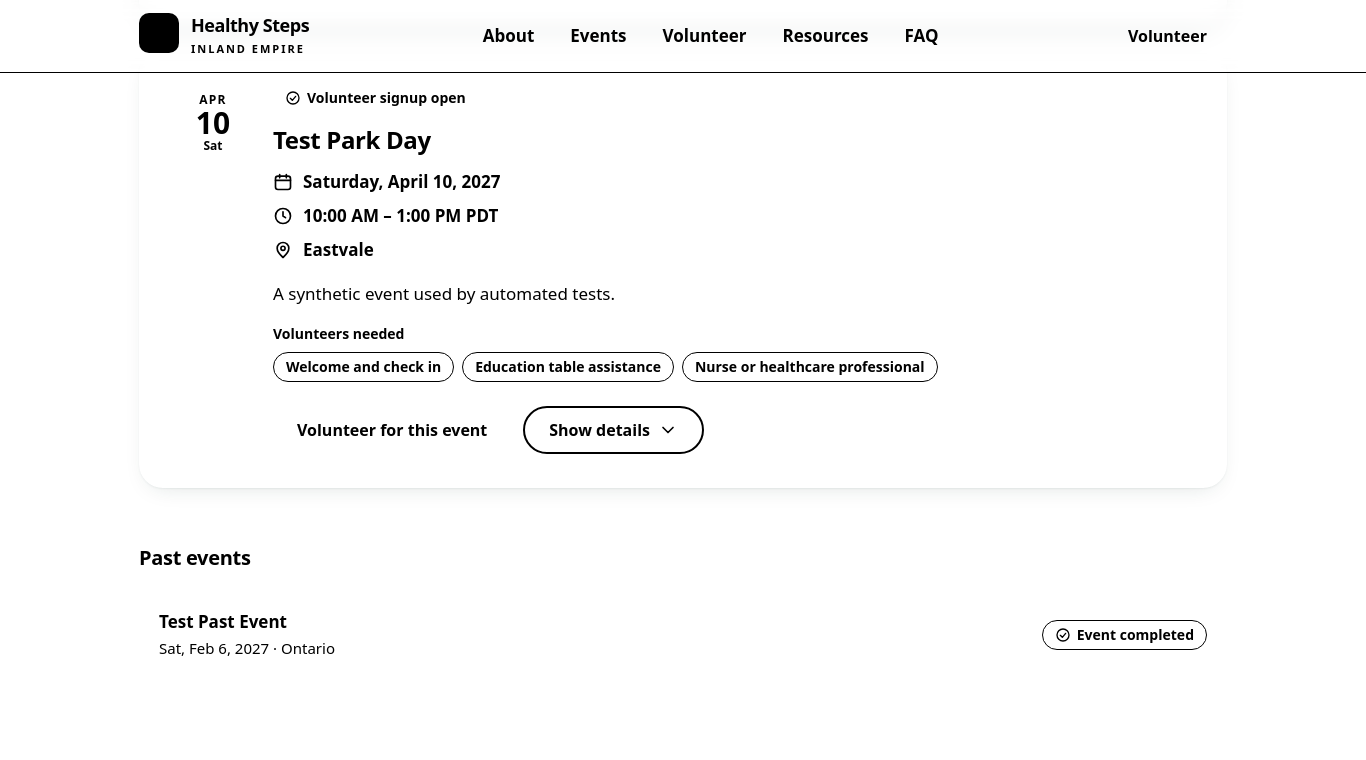
Test: volunteering for an event › preselects the event in the form and moves focus to it
This screenshot has width=1366, height=760.
(page scrolled)
Click the button "Volunteer for this event": point(392, 430) 273,406 -> 511,454
(page scrolled)
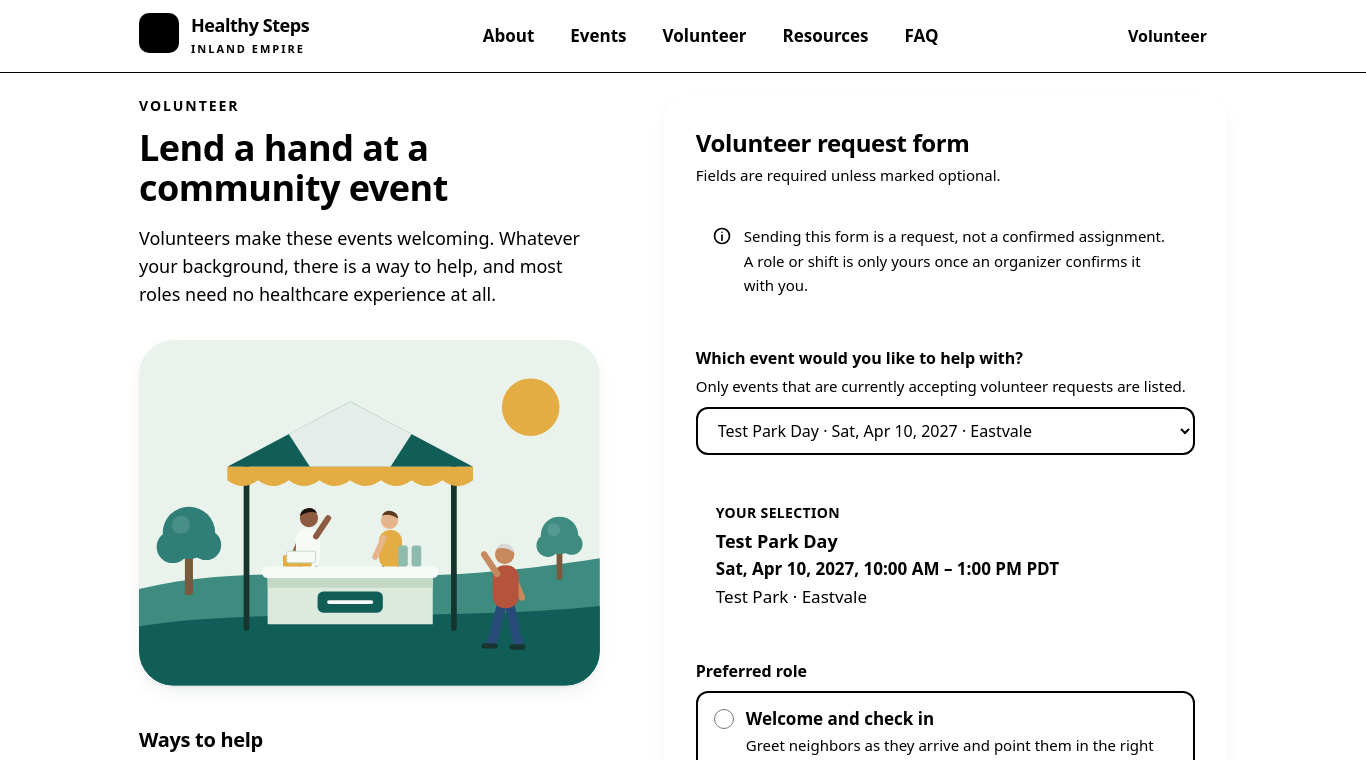
Check: the dropdown labelled "Which event would you like to help with?" shows "Test Park Day · Sat, Apr 10, 2027 · Eastvale", box 696,407 -> 1195,455
